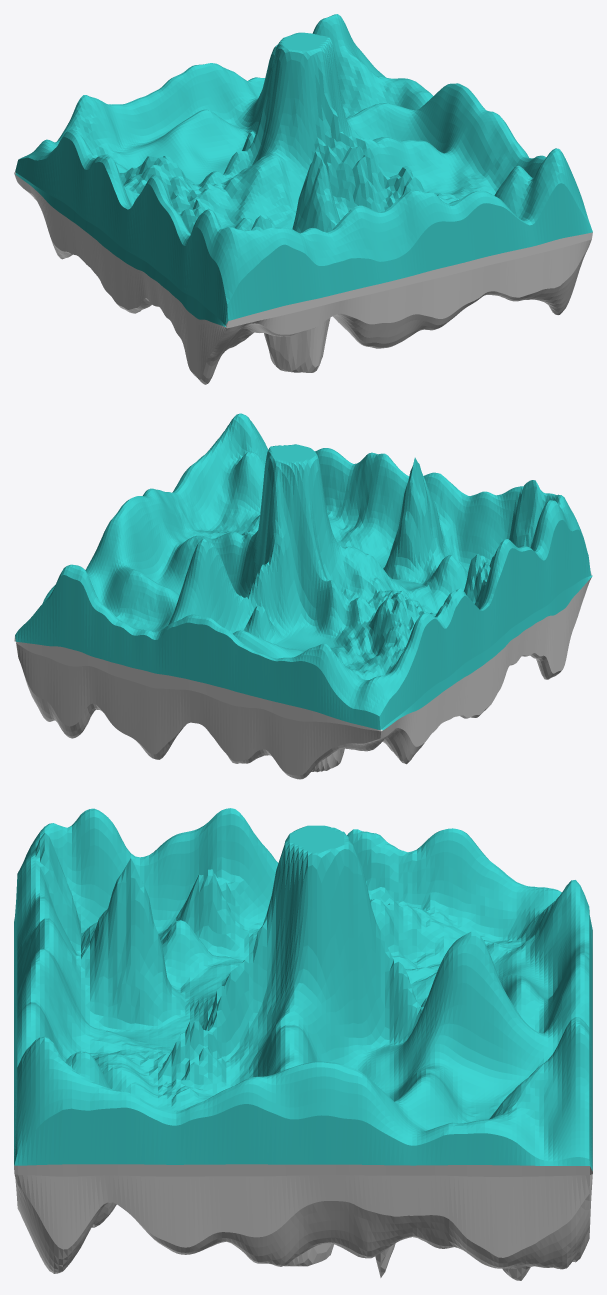
Rendered from TerrainDual.fbx.
3 views of the same model, one above another, from view 1: azimuth 30°, elevation 25°; view 2: azimuth 150°, elevation 25°; view 3: azimuth 270°, elevation 25° (orthographic). The views are drawn at different scales.
Visible parts, largest first — view 1: Terrain.000; view 2: Terrain.000; view 3: Terrain.000.
Part boxes in pixels (box(x1,y1,x2,y2)): Terrain.000: box(14, 14, 592, 384); Terrain.000: box(14, 413, 592, 779); Terrain.000: box(14, 808, 592, 1280).
Bounding box in the file's own units: 149817 × 121377 × 149482.
